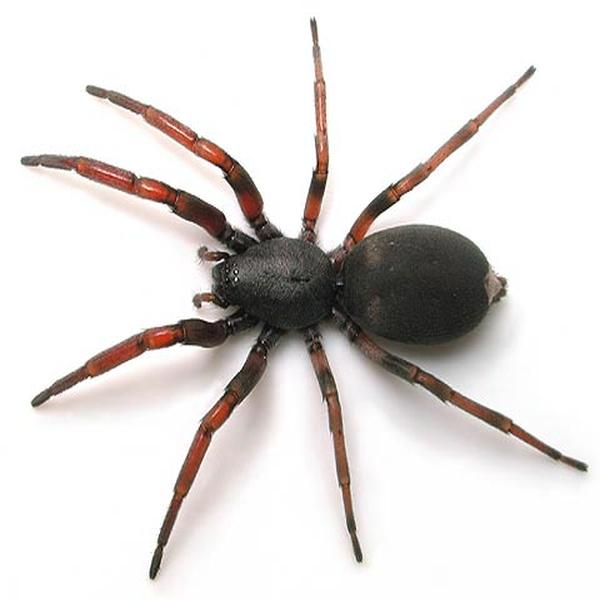White-Tailed Spider: (37, 24, 576, 554)
